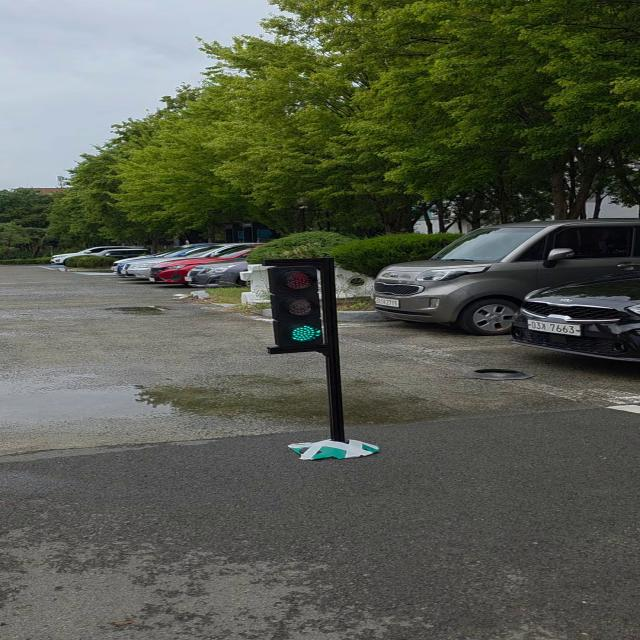green: (266, 264, 334, 352)
